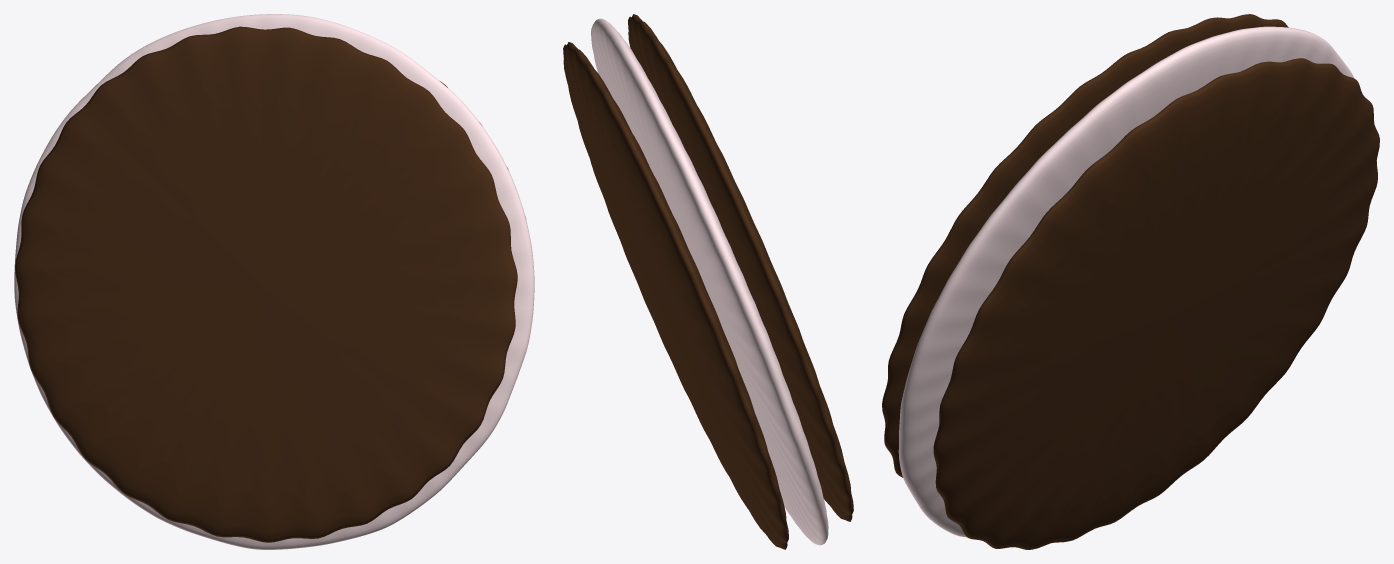
File: biscuits.glb
The picture shows the model from 3 angles, left to right: view 1: azimuth 30°, elevation 25°; view 2: azimuth 150°, elevation 25°; view 3: azimuth 270°, elevation 25°; orthographic projection. The views are drawn at different scales.
Visible parts, largest first — view 1: bisket; view 2: bisket; view 3: bisket.
Part boxes in pixels (x1=…): bisket: x1=14, y1=14, x2=534, y2=549; bisket: x1=563, y1=14, x2=853, y2=549; bisket: x1=882, y1=14, x2=1379, y2=549.
Size of the model in its own units: 2.1 by 2.51 by 2.1.
